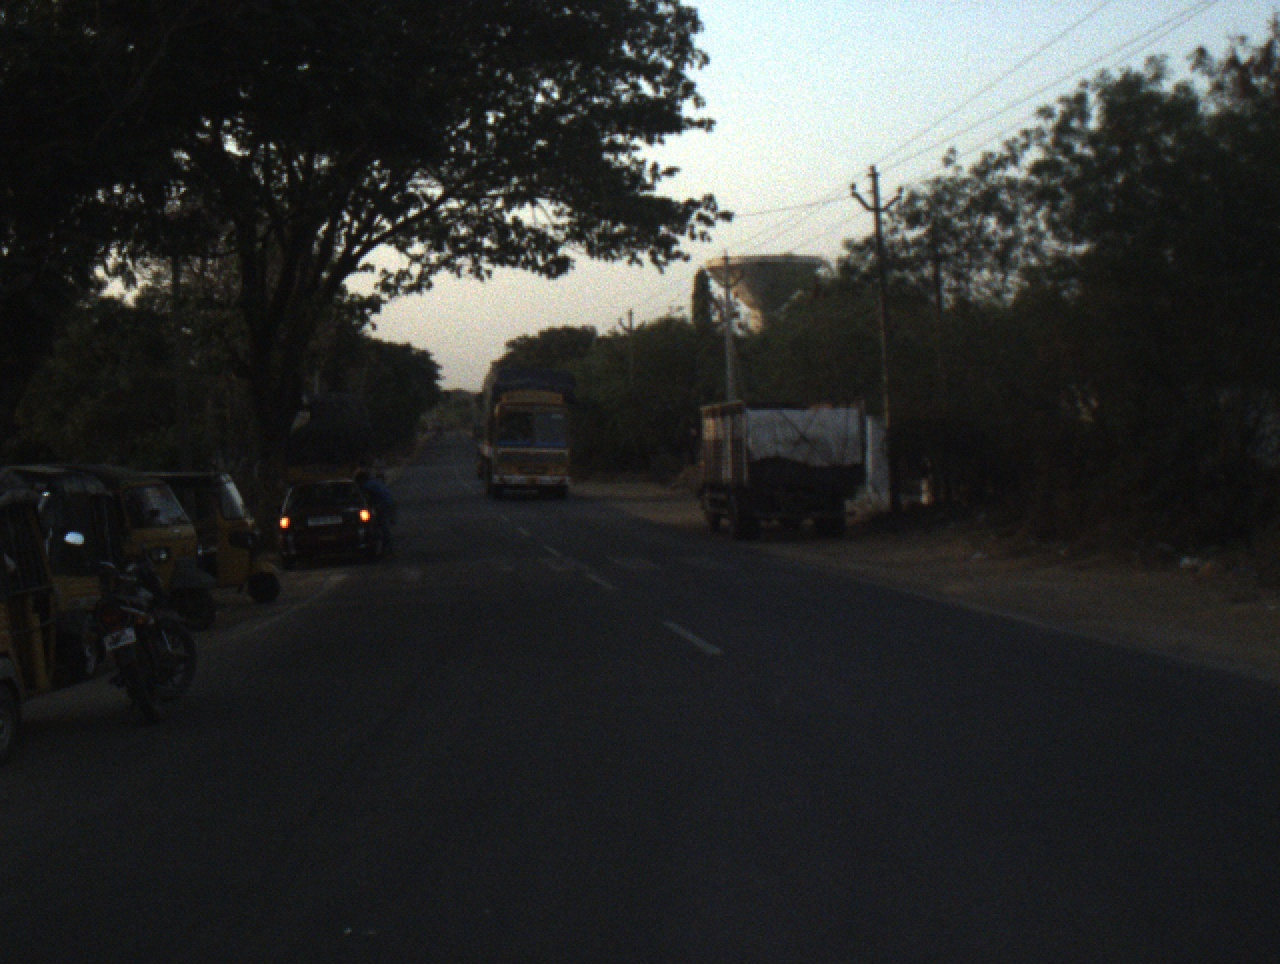autorickshaw: (23, 459, 217, 631), (12, 456, 122, 684), (139, 468, 284, 607), (1, 471, 60, 703)
car: (275, 475, 382, 564)
motorcycle: (62, 517, 202, 728)
person: (355, 465, 401, 566), (370, 449, 388, 481)
truck: (687, 390, 870, 552), (465, 362, 579, 503)
